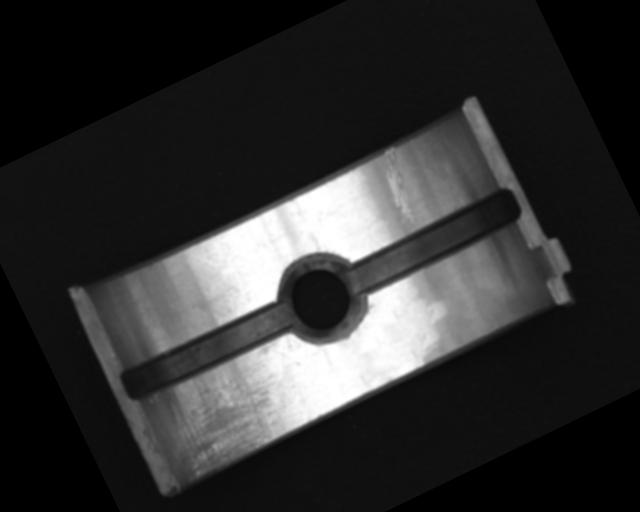gap: (340, 180, 527, 301), (115, 294, 294, 409)
hole: (266, 241, 379, 356)
nick: (369, 145, 428, 228)
scratch: (146, 345, 302, 486)
